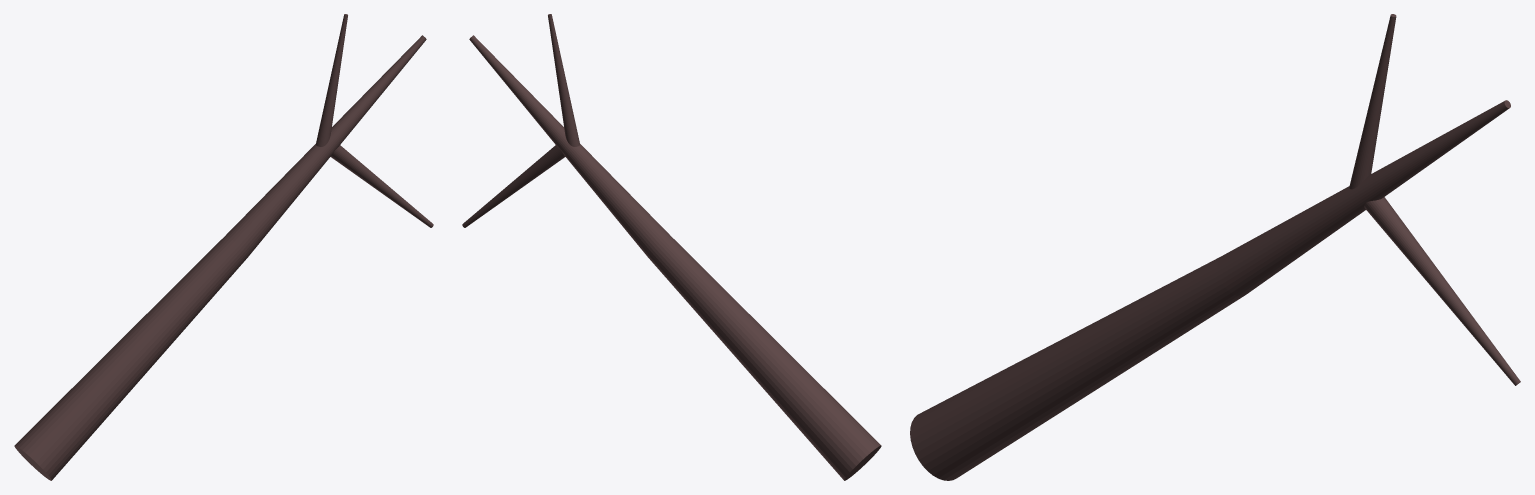
Rendered from brazoder.obj.
The picture shows the model from 3 angles, left to right: view 1: azimuth 30°, elevation 25°; view 2: azimuth 150°, elevation 25°; view 3: azimuth 330°, elevation 25°; orthographic projection. The views are drawn at different scales.
Parts seen in each view (by area): view 1: brazoizq:polySurface5; view 2: brazoizq:polySurface5; view 3: brazoizq:polySurface5.
Boxes of the visible parts, left/top/right/bottom form: brazoizq:polySurface5: left=14, top=14, right=433, bottom=480; brazoizq:polySurface5: left=462, top=14, right=881, bottom=480; brazoizq:polySurface5: left=910, top=14, right=1520, bottom=480.
Bounding box in the file's own units: 0.3331 × 0.3007 × 0.0359.
Materials: 1 (1 with a texture image).
